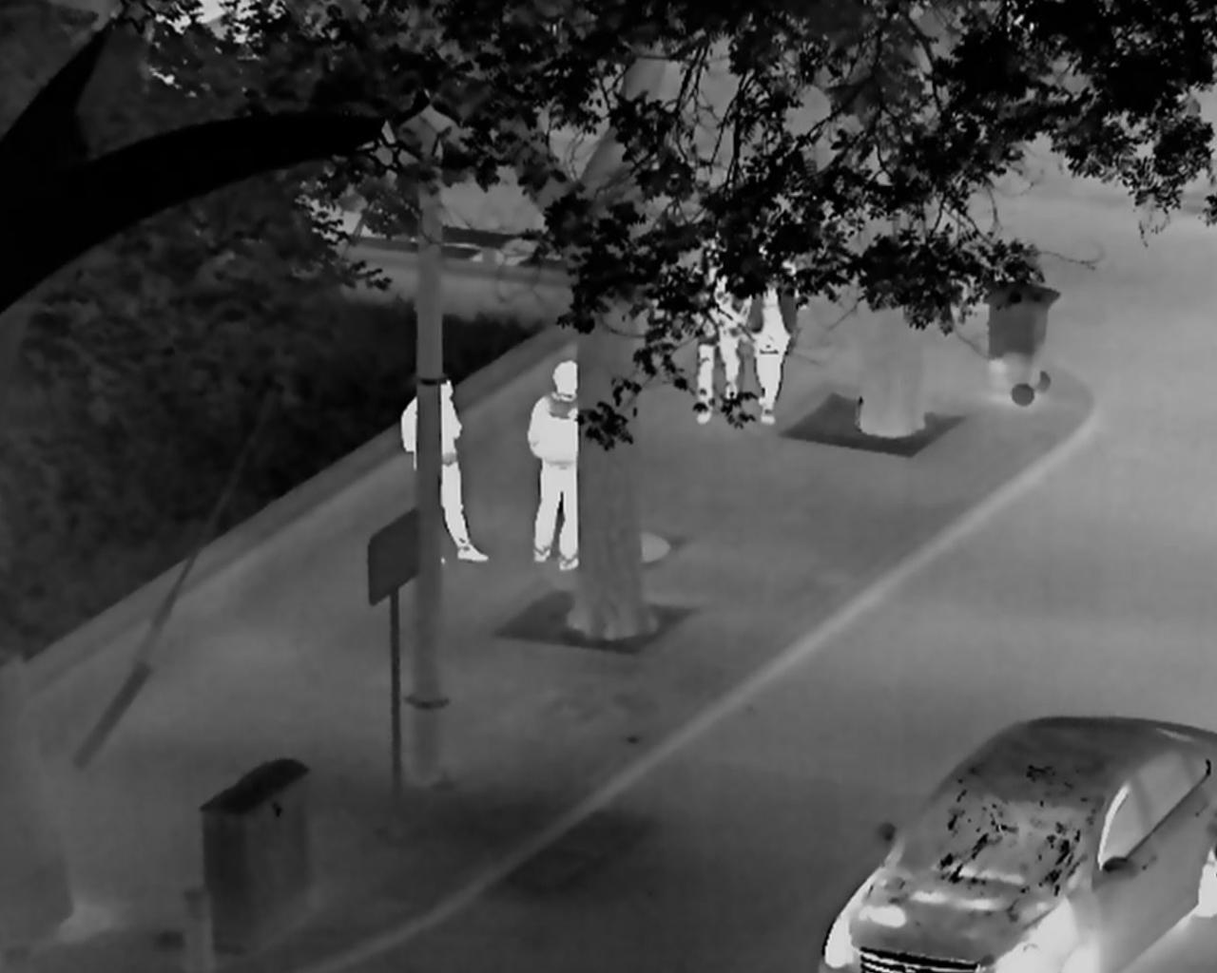person: (399, 378, 489, 564), (526, 360, 579, 570), (745, 246, 802, 424), (693, 235, 744, 425)
